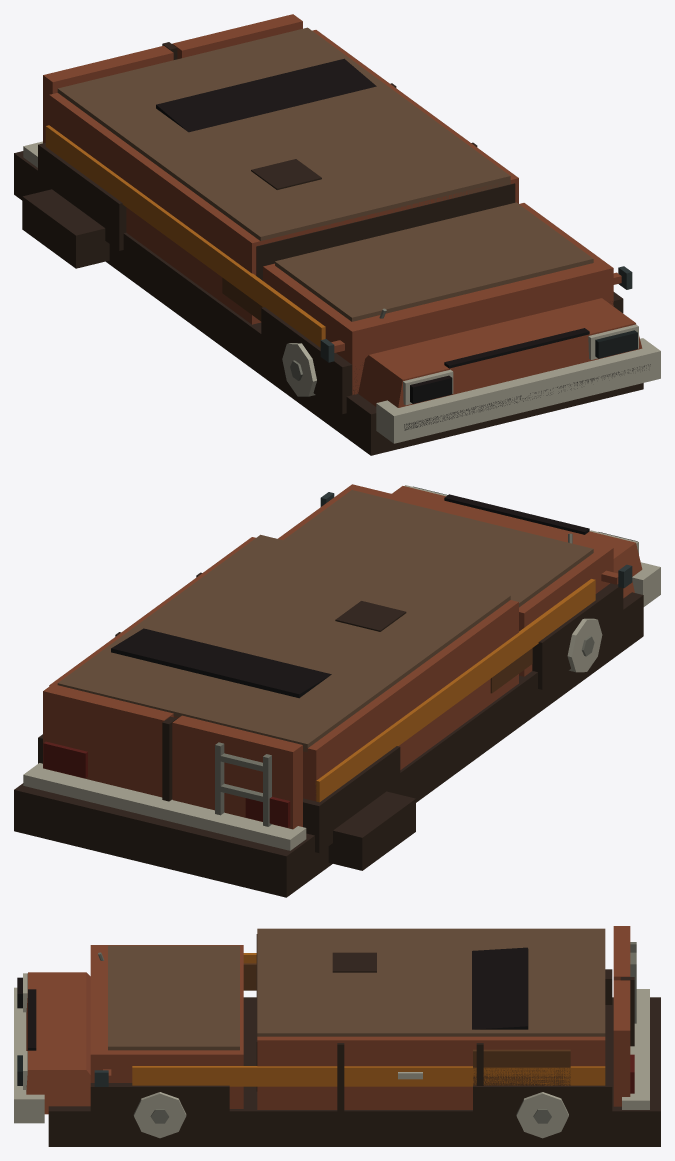
The model's file is wreck-van.glb.
3 views of the same model, one above another, from view 1: azimuth 30°, elevation 25°; view 2: azimuth 150°, elevation 25°; view 3: azimuth 270°, elevation 25° (orthographic). The views are drawn at different scales.
Visible parts, largest first — view 1: WreckVan; view 2: WreckVan; view 3: WreckVan.
Part boxes in pixels (bbox=[...]): WreckVan: bbox=[14, 14, 660, 455]; WreckVan: bbox=[14, 484, 660, 897]; WreckVan: bbox=[14, 926, 660, 1146].
Bounding box in the file's own units: 2.29 × 0.8997 × 4.65.
